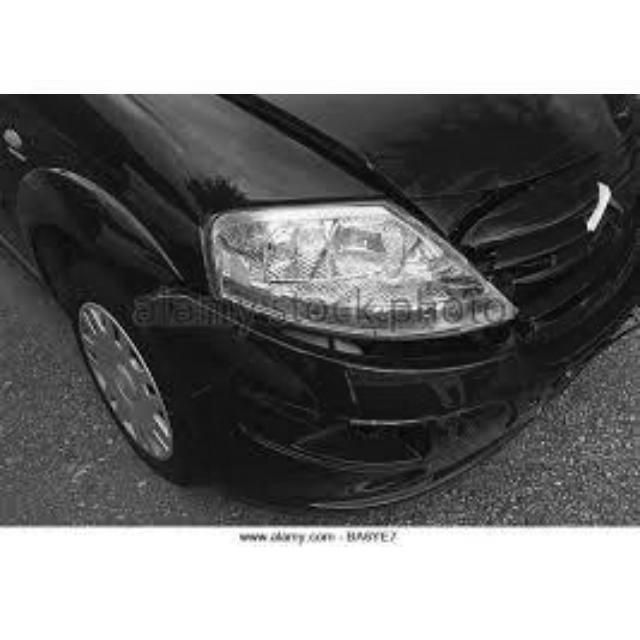front-bumper-dent: (190, 332, 542, 521)
